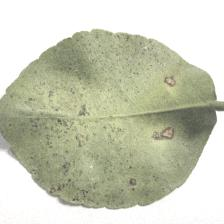canker: (27, 48, 194, 205)
